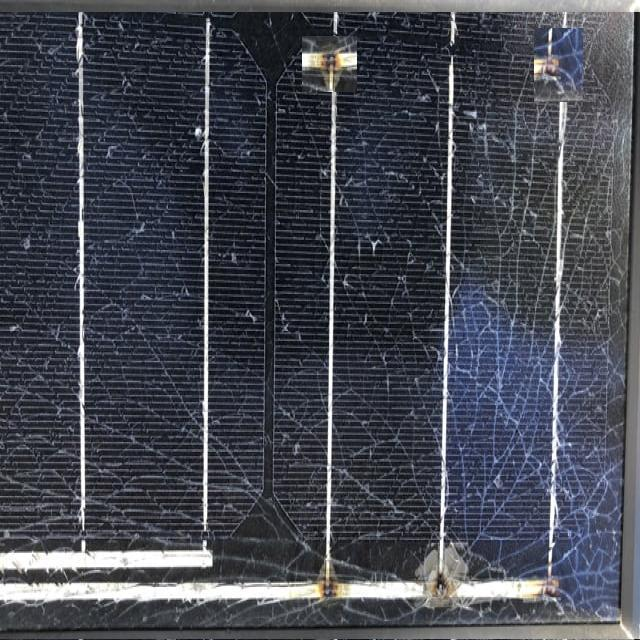Electrical-damage: (411, 23, 491, 121), (534, 29, 583, 103), (302, 36, 357, 92)
Physical-damage: (0, 12, 640, 639)
